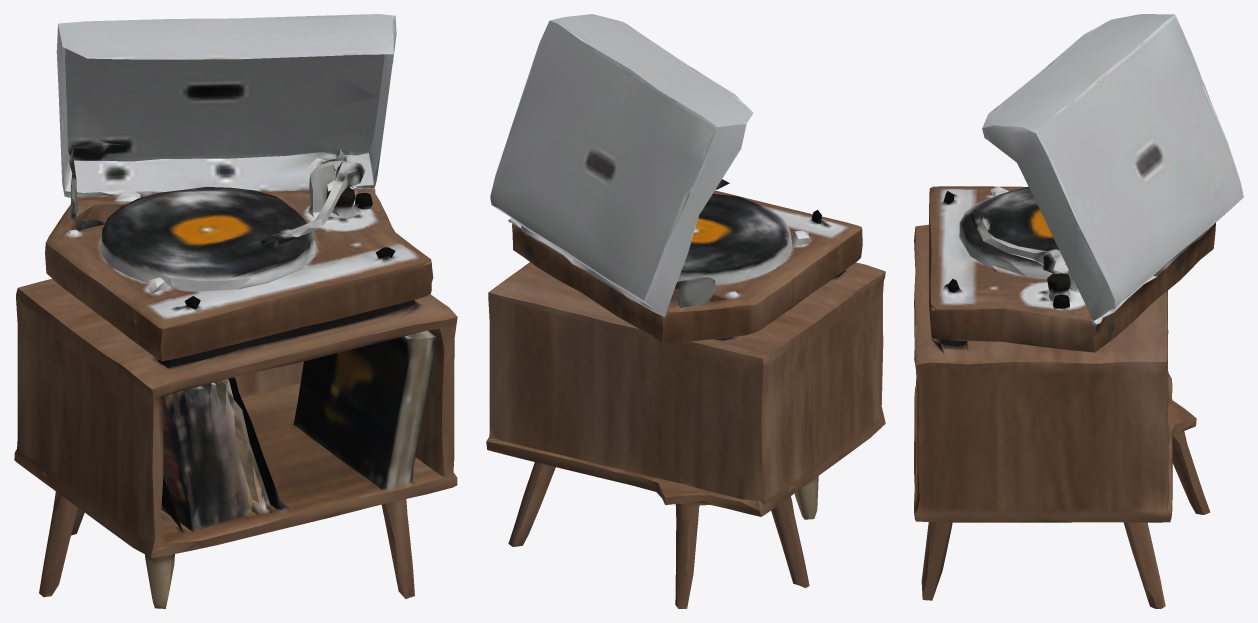
The model's file is record.glb.
3 renders of one model, left to right at view 1: azimuth 30°, elevation 25°; view 2: azimuth 150°, elevation 25°; view 3: azimuth 270°, elevation 25°, orthographic. The views are drawn at different scales.
Visible parts, largest first — view 1: world; view 2: world; view 3: world.
Part boxes in pixels (bbox=[...]): world: bbox=[14, 14, 457, 608]; world: bbox=[486, 14, 885, 608]; world: bbox=[914, 14, 1243, 608].
Bounding box in the file's own units: 0.45 × 0.6633 × 0.4053.
1 material, 1 textured.
